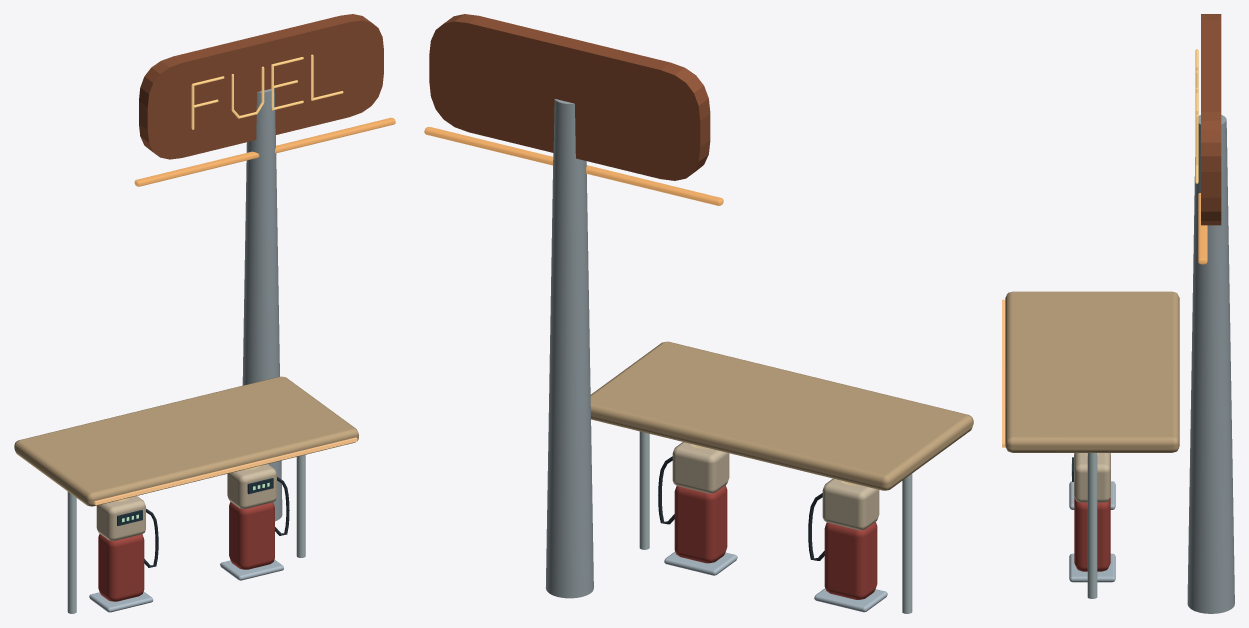
The model's file is truckstop-map.glb.
3 renders of one model, left to right at view 1: azimuth 30°, elevation 25°; view 2: azimuth 150°, elevation 25°; view 3: azimuth 270°, elevation 25°, orthographic. The views are drawn at different scales.
Parts seen in each view (by area): view 1: pumps, place-static; view 2: place-static, pumps; view 3: pumps, place-static.
Part boxes in pixels (x1,y1,x2,y2): pumps: [14, 376, 358, 613]; place-static: [134, 14, 395, 521]; place-static: [424, 14, 723, 598]; pumps: [590, 341, 973, 613]; pumps: [1002, 291, 1179, 598]; place-static: [1187, 14, 1234, 613].
Size of the model in its own units: 4.32 by 5.01 by 1.96.
